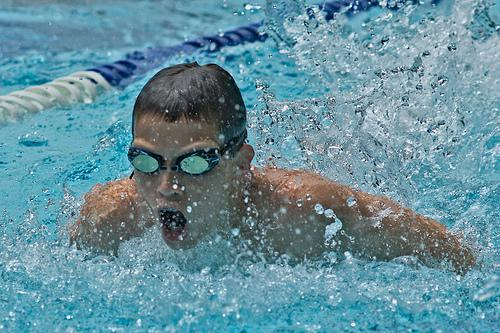human: (59, 52, 473, 282)
